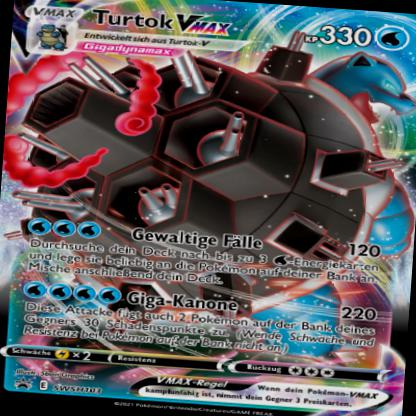Blastoise: (236, 47, 416, 229)
